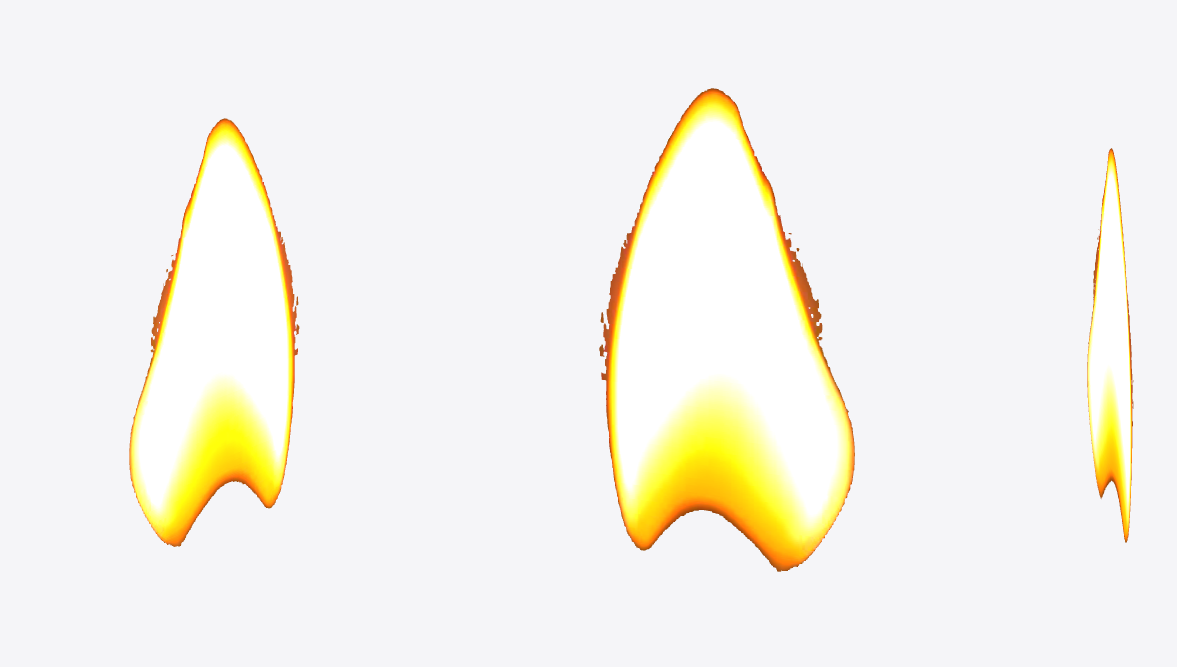
The picture shows the model from 3 angles, left to right: view 1: azimuth 30°, elevation 25°; view 2: azimuth 150°, elevation 25°; view 3: azimuth 270°, elevation 25°; orthographic projection. The views are drawn at different scales.
Visible parts, largest first — view 1: _150; view 2: _150; view 3: _150.
Boxes of the visible parts, bbox=[...] form: _150: bbox=[129, 118, 299, 546]; _150: bbox=[599, 88, 854, 571]; _150: bbox=[1087, 148, 1133, 542].
Size of the model in its own units: 6.93 by 7.1 by 1.56.
